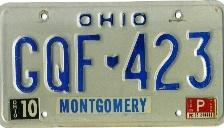2: (152, 31, 183, 92)
3: (186, 29, 215, 90)
4: (122, 31, 151, 93)
C: (13, 33, 40, 95)
F: (74, 32, 103, 93)
Q: (44, 34, 71, 94)
